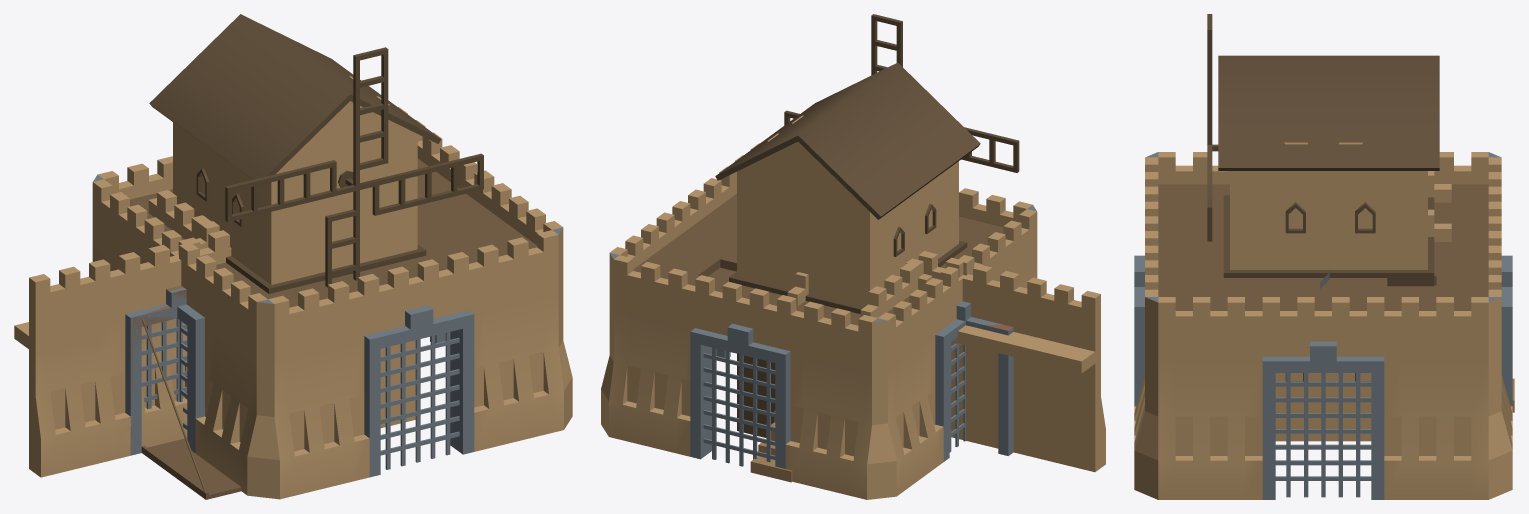
Rendered from castle.fbx.
3 renders of one model, left to right at view 1: azimuth 30°, elevation 25°; view 2: azimuth 150°, elevation 25°; view 3: azimuth 270°, elevation 25°, orthographic. The views are drawn at different scales.
Visible parts, largest first — view 1: building_01, mill, door_02, wall_01, door_01, wall_02, corner_wall_02; view 2: building_01, mill, door_02, wall_01, wall_02, door_01, corner_wall_02, stairs_01, corner_wall_01; view 3: building_01, mill, corner_wall_01, corner_wall_02.
Boxes of the visible parts, x1,y1,x2,y2 form: building_01: [92, 107, 572, 499]; mill: [149, 14, 483, 428]; door_02: [29, 234, 231, 477]; wall_01: [14, 230, 230, 476]; door_01: [35, 235, 241, 499]; wall_02: [35, 252, 216, 472]; corner_wall_02: [148, 190, 219, 242]; building_01: [601, 143, 1037, 499]; mill: [715, 14, 1019, 437]; door_02: [918, 254, 1105, 471]; wall_01: [919, 251, 1100, 471]; wall_02: [936, 262, 1095, 472]; door_01: [939, 262, 1095, 470]; corner_wall_02: [860, 258, 923, 317]; stairs_01: [750, 411, 792, 482]; corner_wall_01: [787, 263, 932, 306]; building_01: [1134, 152, 1512, 499]; mill: [1207, 14, 1439, 441]; corner_wall_01: [1428, 209, 1451, 241]; corner_wall_02: [1428, 171, 1451, 202].
Size of the model in its own units: 1235 by 993 by 875.
Materials: 1 (1 with a texture image).
